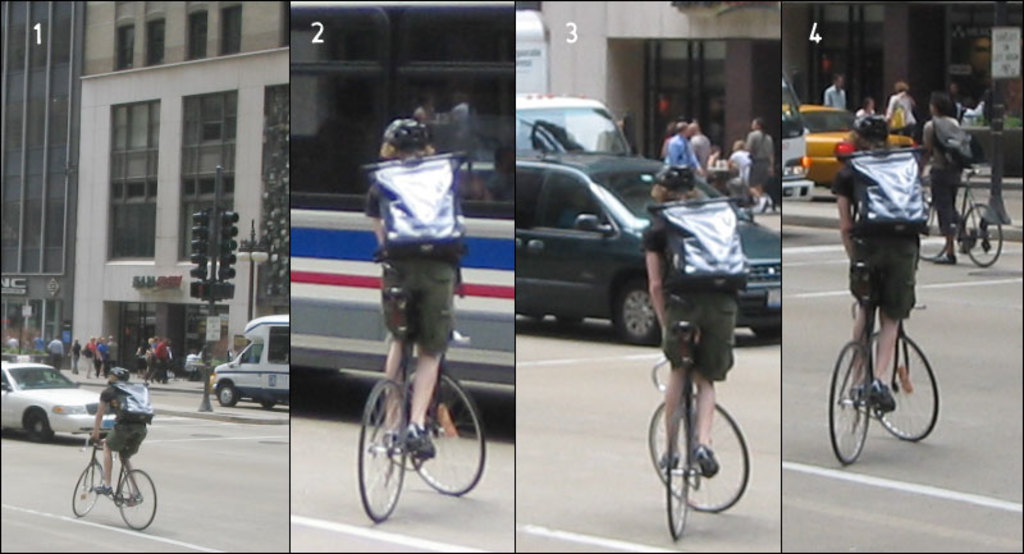Bike_away: (353, 286, 489, 526), (629, 321, 752, 541), (829, 259, 943, 468), (67, 425, 160, 531)
